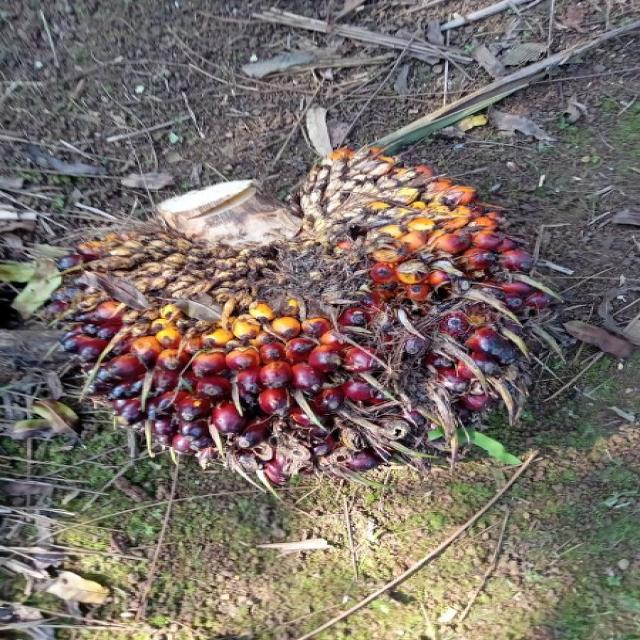fraksi 1: (16, 103, 626, 570)
